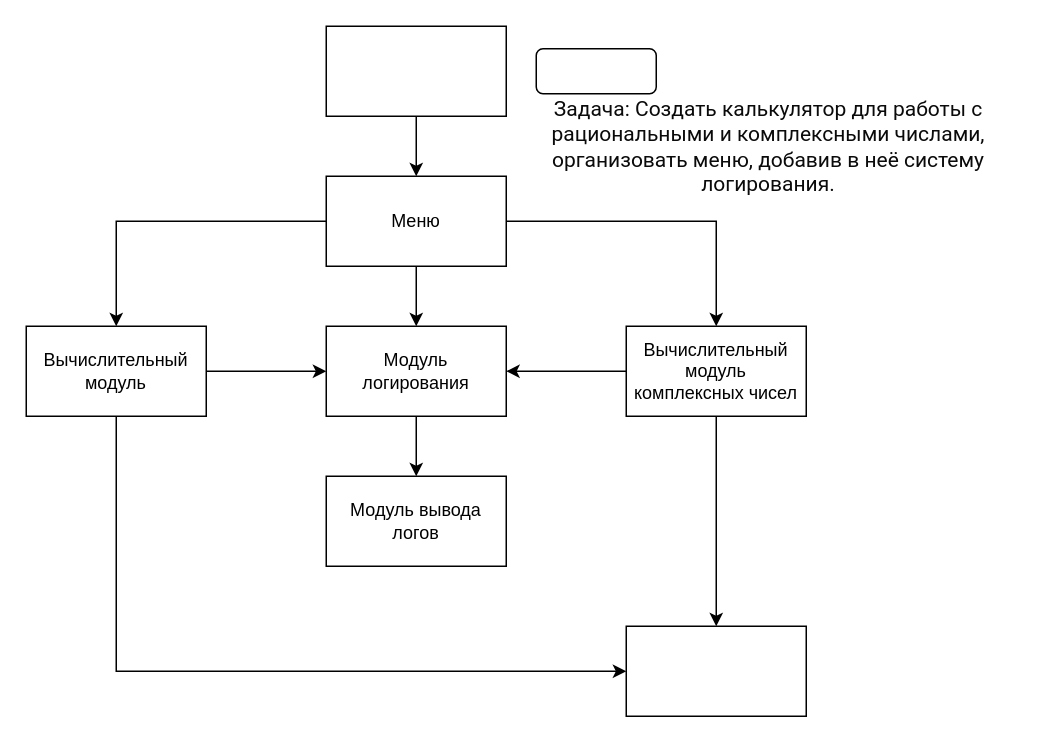
The diagram is 1058 pixels wide and 743 high, and some of its shapes have lost their labels. The shapes that lost their labels are listed below. From the top down, each one's centre as x and y in pixels, then its label:
At point 415,70: "Интерфейс пользователя".
At point 595,70: "GUI 3 кнопки".
At point 715,670: "Модуль вывода".
